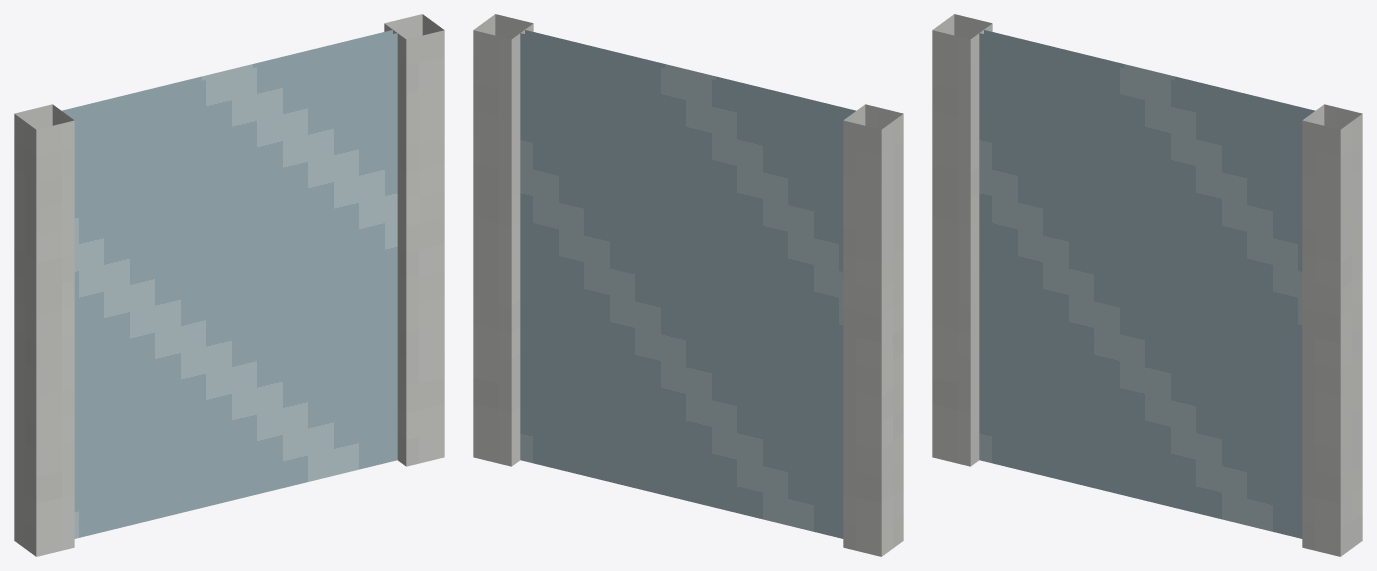
The model's file is auto_door_tele_slider_white_c2_middle_left_open.obj.
The picture shows the model from 3 angles, left to right: view 1: azimuth 30°, elevation 25°; view 2: azimuth 150°, elevation 25°; view 3: azimuth 330°, elevation 25°; orthographic projection.
Parts seen in each view (by area): view 1: auto_door_tele_slider_white_c2_middle_left_open; view 2: auto_door_tele_slider_white_c2_middle_left_open; view 3: auto_door_tele_slider_white_c2_middle_left_open.
Boxes of the visible parts, x1,y1,x2,y2 form: auto_door_tele_slider_white_c2_middle_left_open: [14, 14, 444, 556]; auto_door_tele_slider_white_c2_middle_left_open: [473, 14, 903, 556]; auto_door_tele_slider_white_c2_middle_left_open: [932, 14, 1362, 556].
Bounding box in the file's own units: 1 × 1 × 0.0938.
